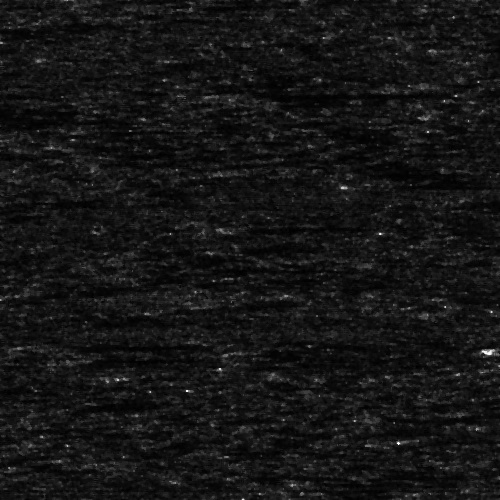object: (280, 255, 415, 270), (167, 220, 312, 233), (182, 85, 297, 100), (312, 175, 405, 192), (263, 94, 346, 109), (442, 339, 500, 360), (50, 353, 113, 366), (0, 341, 85, 350), (332, 220, 373, 237), (186, 300, 249, 309), (262, 479, 335, 486), (353, 411, 406, 420), (386, 437, 449, 442), (440, 46, 493, 51), (191, 246, 232, 251), (83, 128, 114, 131)
shadow: (240, 85, 459, 100), (359, 175, 475, 192), (348, 255, 464, 270), (305, 94, 417, 109), (240, 220, 351, 233), (81, 353, 190, 366), (380, 411, 500, 420), (353, 220, 411, 237), (39, 341, 146, 350), (0, 23, 90, 30), (211, 246, 323, 251), (218, 300, 274, 309), (0, 496, 110, 500), (299, 479, 361, 486), (418, 437, 482, 442), (99, 128, 205, 131), (466, 46, 500, 51)
